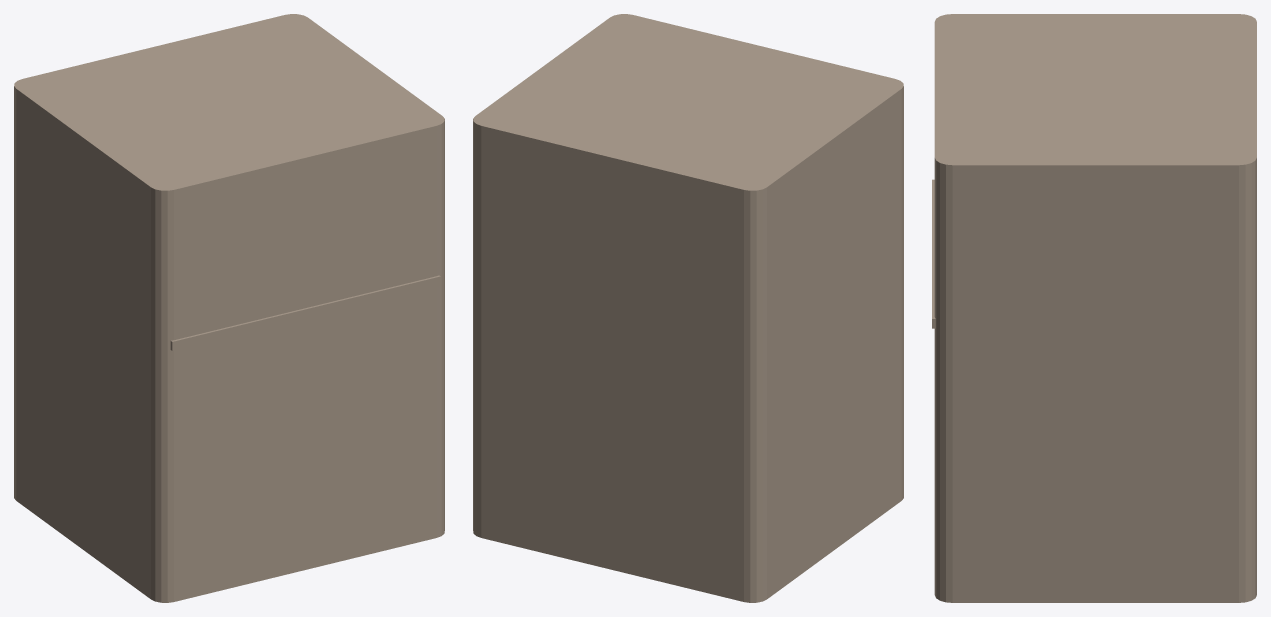
The model's file is leo-short-plinth-smoke-oak.glb.
3 views of the same model, side by side, from view 1: azimuth 30°, elevation 25°; view 2: azimuth 150°, elevation 25°; view 3: azimuth 270°, elevation 25° (orthographic). The views are drawn at different scales.
Parts seen in each view (by area): view 1: geometry_0; view 2: geometry_0; view 3: geometry_0.
Boxes of the visible parts, <box> form: geometry_0: <box>14,14,444,602</box>; geometry_0: <box>473,14,903,602</box>; geometry_0: <box>932,14,1256,602</box>.
Size of the model in its own units: 0.4 by 0.55 by 0.363.
